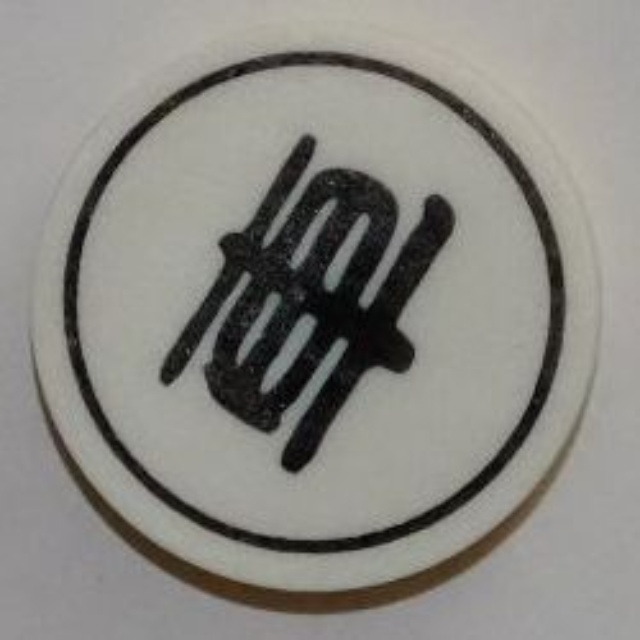black_xe: (26, 14, 615, 605)
